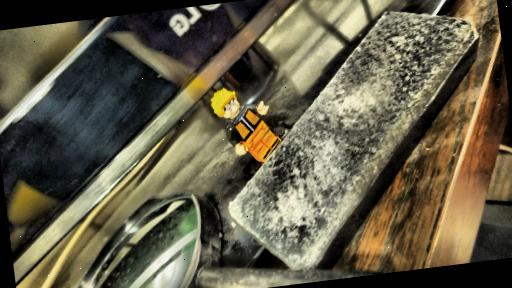borrador: (228, 12, 477, 268)
